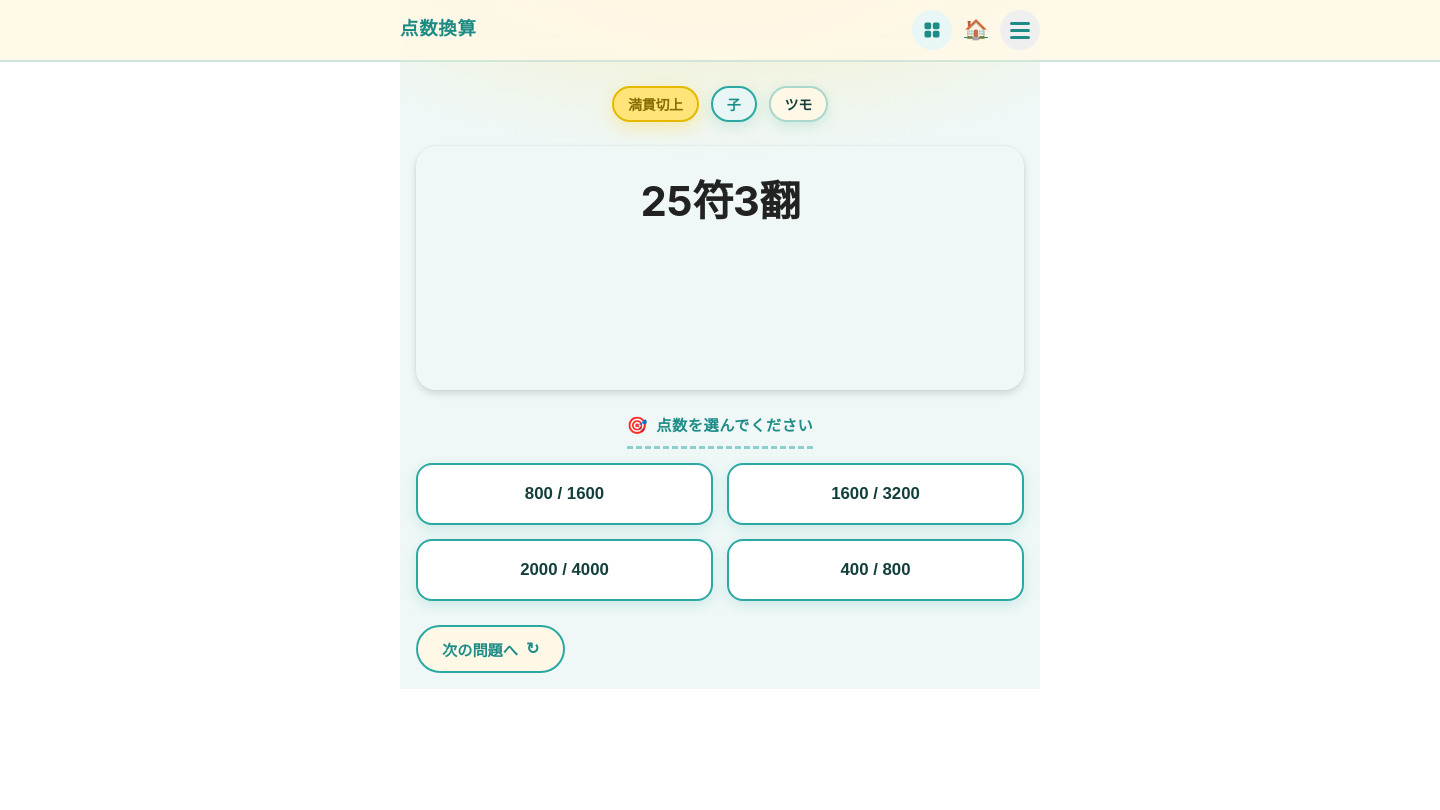
Test case: ConvertQuizPage › selecting a choice reveals the verdict, answer, and formula inside the flashcard (no navigation)
What coordinates should you click on to do the following:
click the button "800 / 1600"
I would click on:
 (564, 494)
Its box is [416,464,713,526].
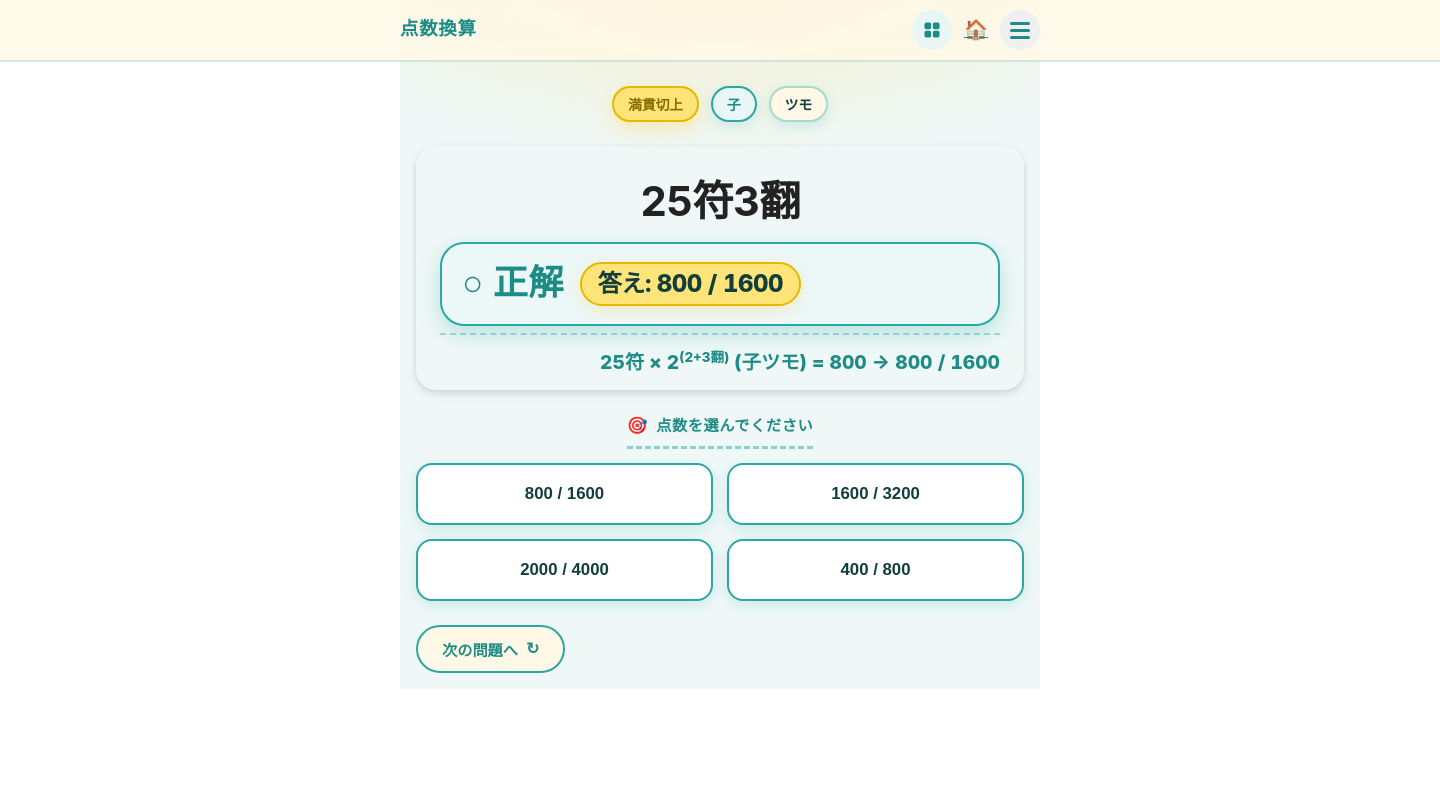
Result: the text with class "result-answer" shows "答え:" at [598,269,657,298]
Result: the text with class "result-verdict" reads "○ 正解" at [462,263,564,302]
